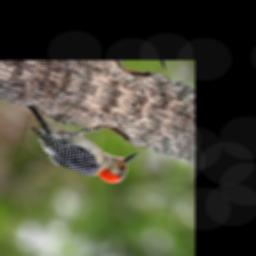Woodpecker: (4, 99, 145, 196)
